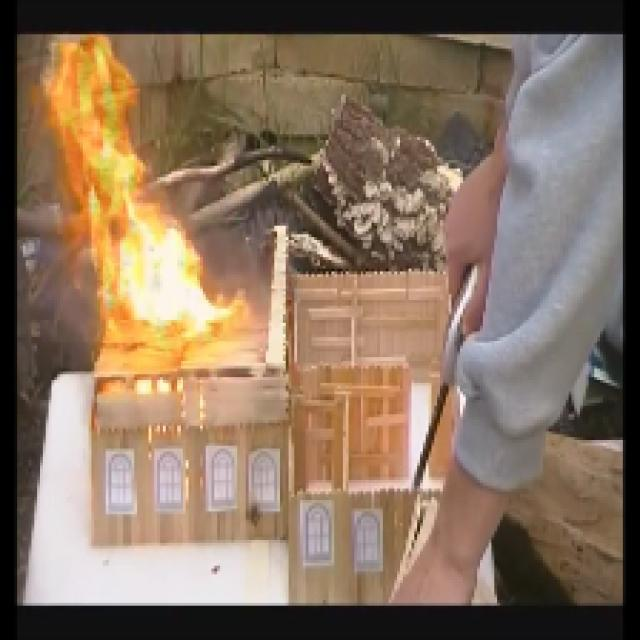Fire: (42, 37, 243, 360)
